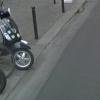Motorcycle: (2, 5, 39, 85)
